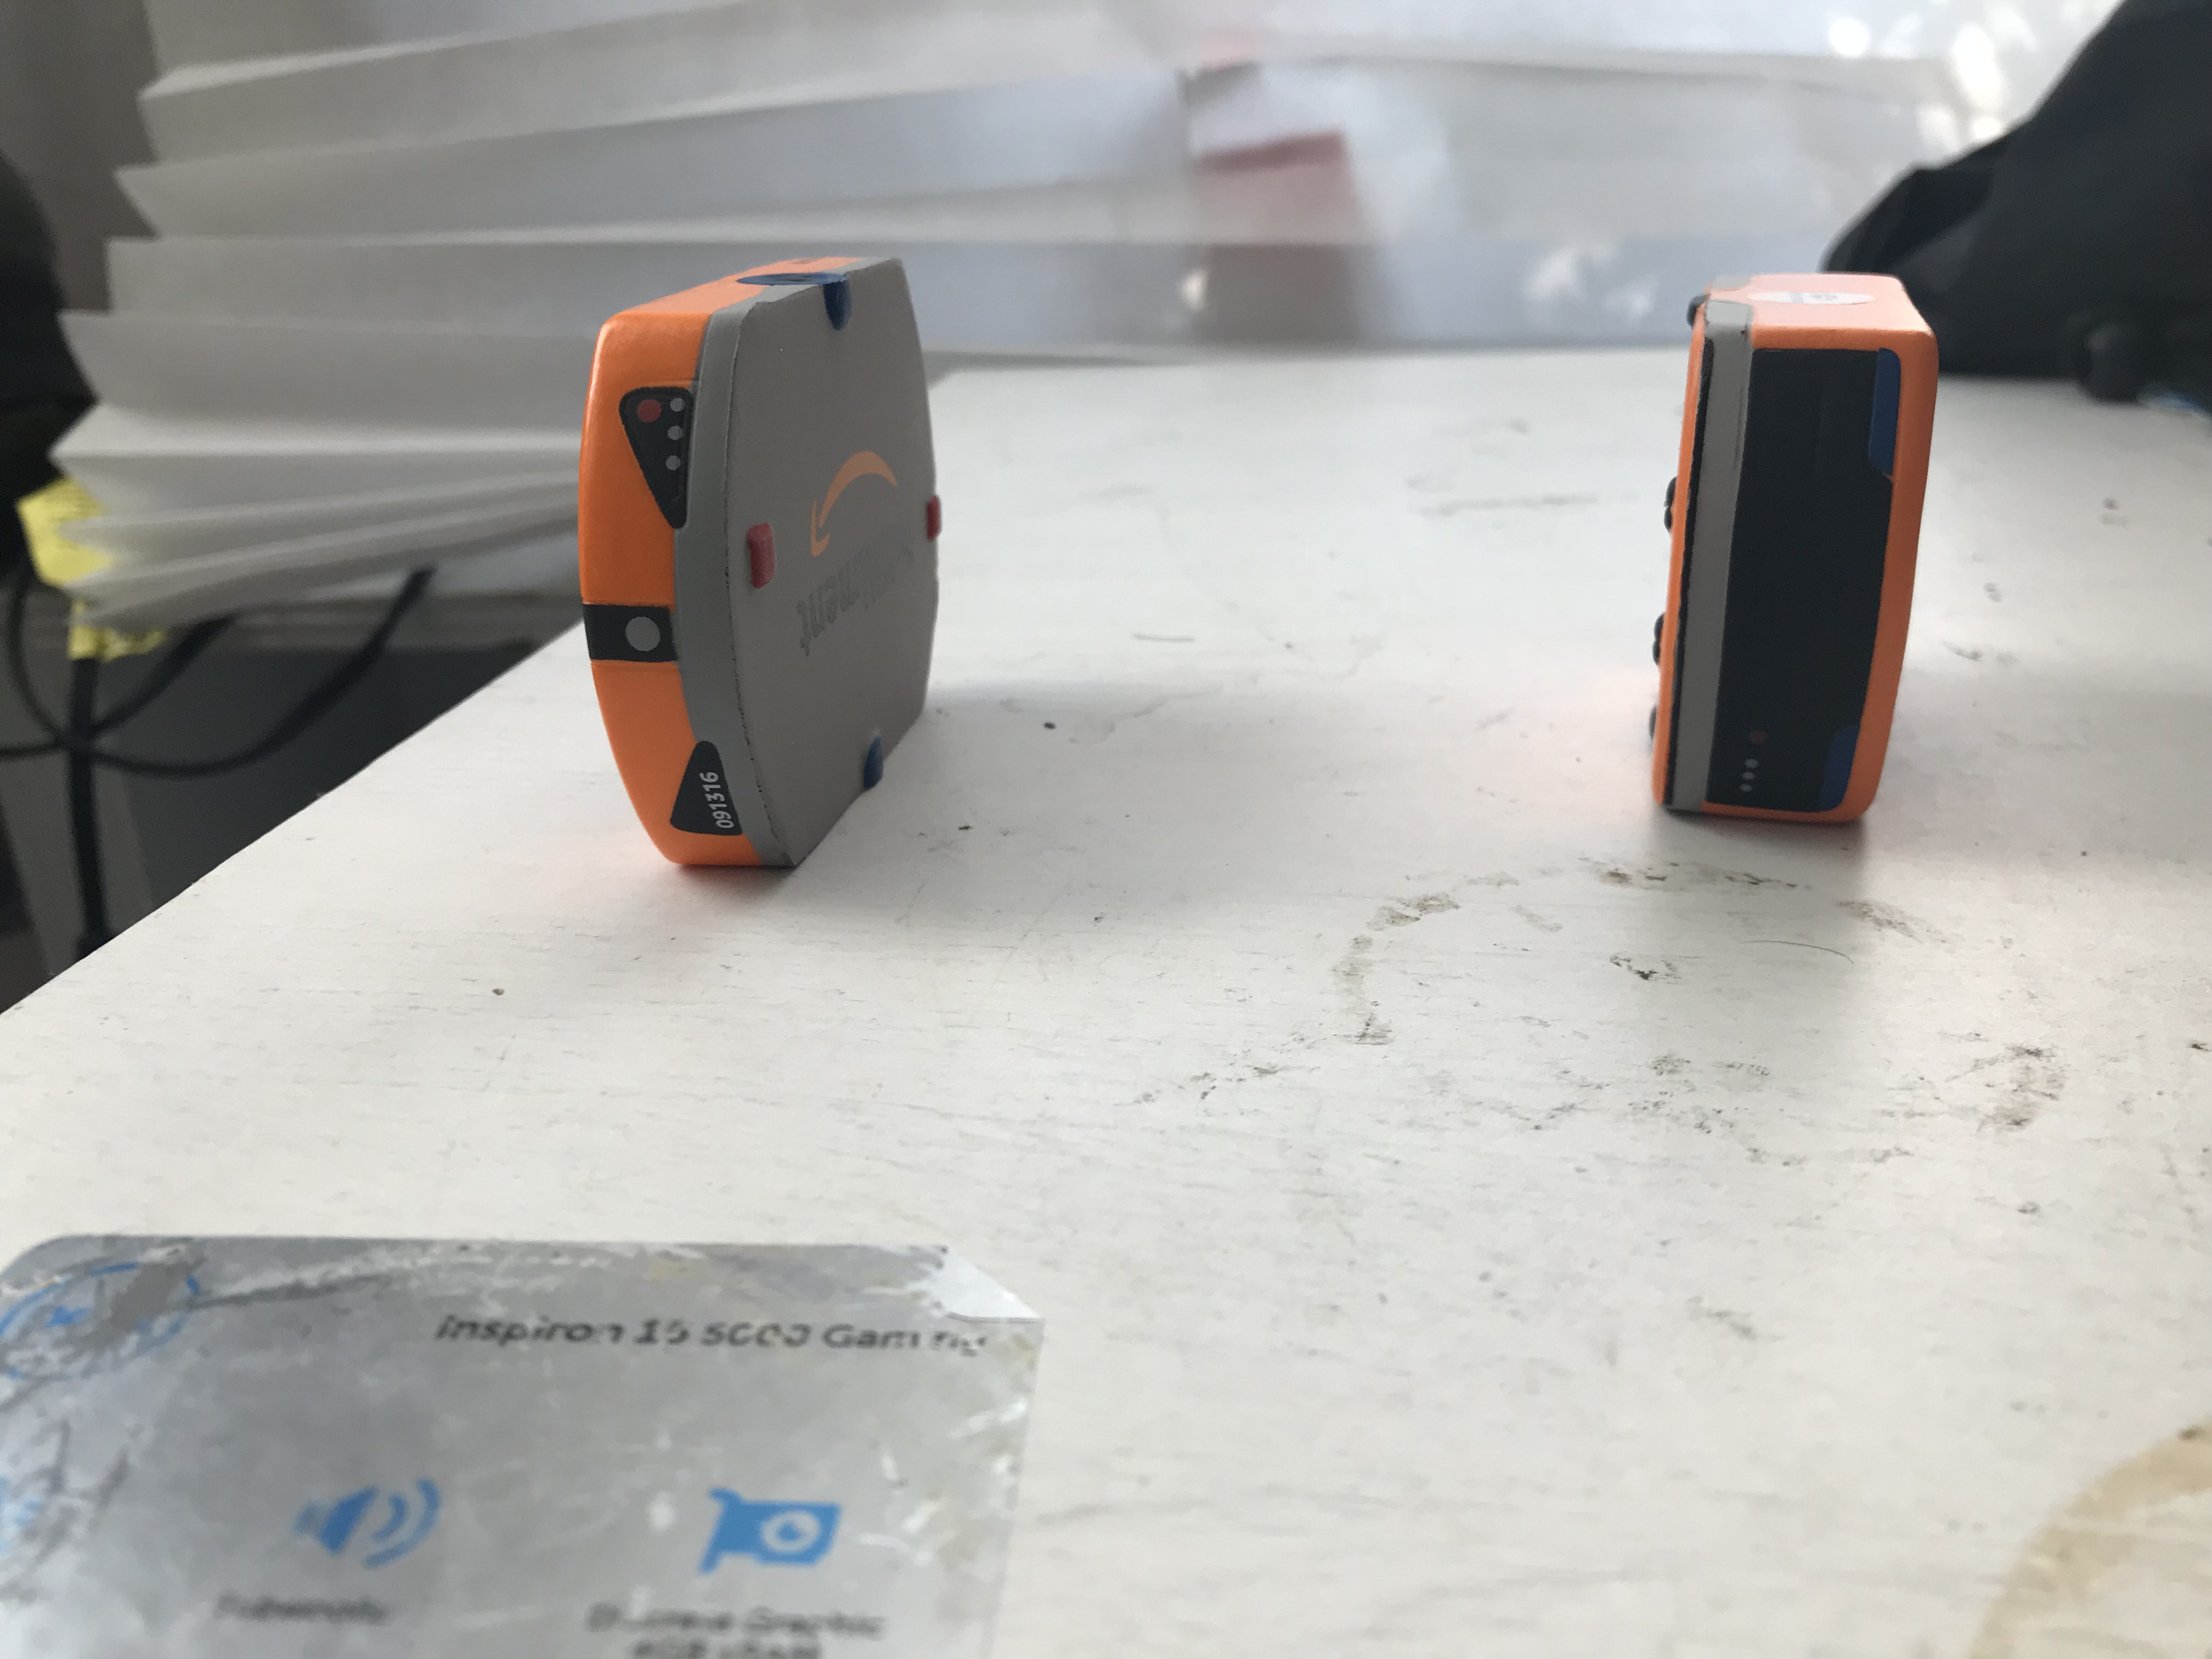amazon_bot: (554, 242, 986, 880), (1627, 265, 1949, 863)
